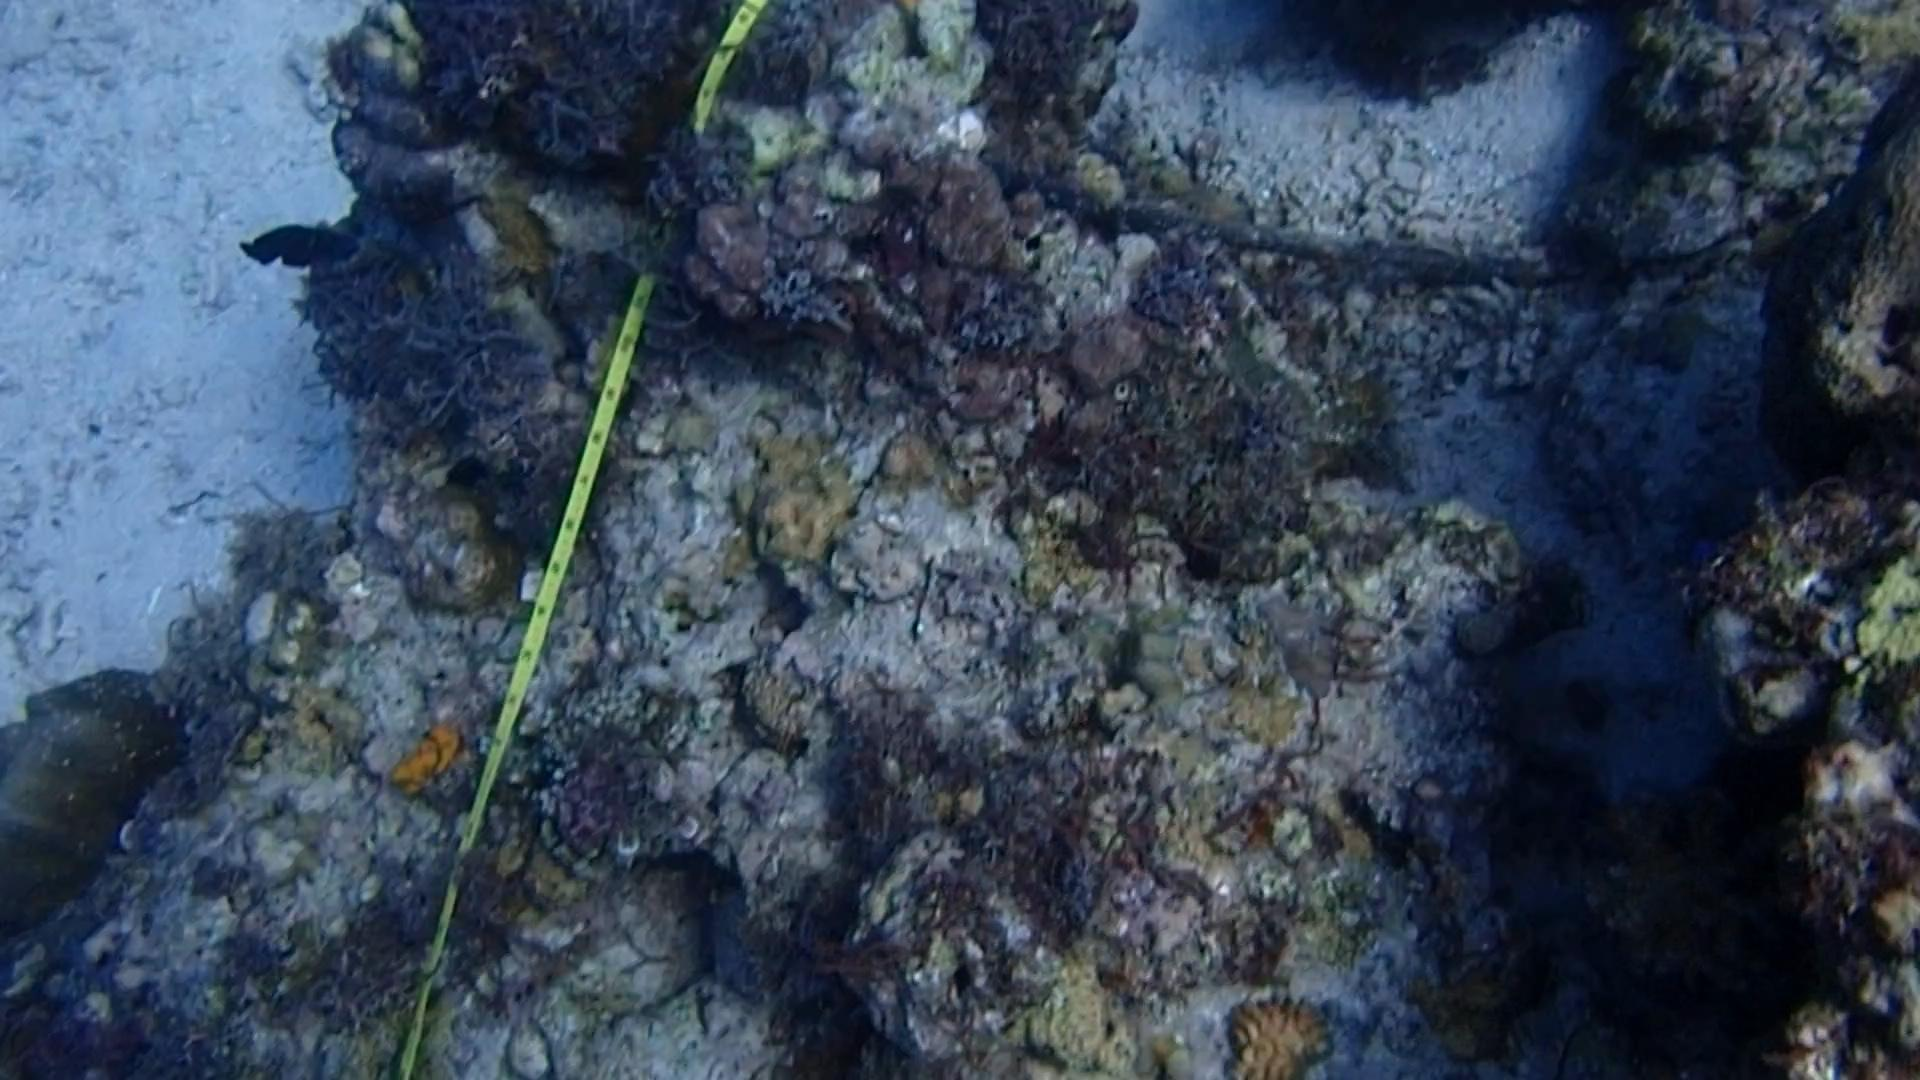Dark Fish: (231, 214, 369, 278)
